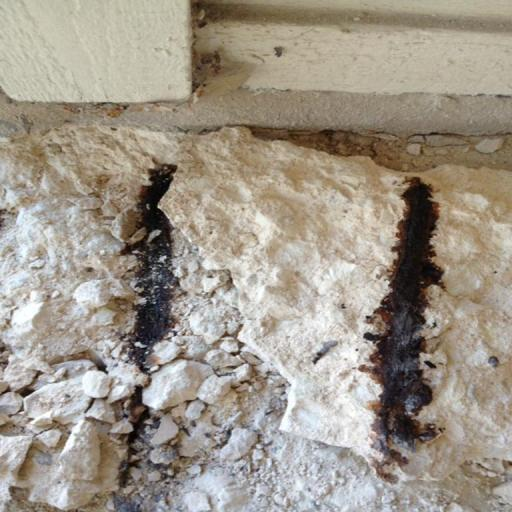spalling: (354, 149, 466, 512), (98, 138, 191, 510)
